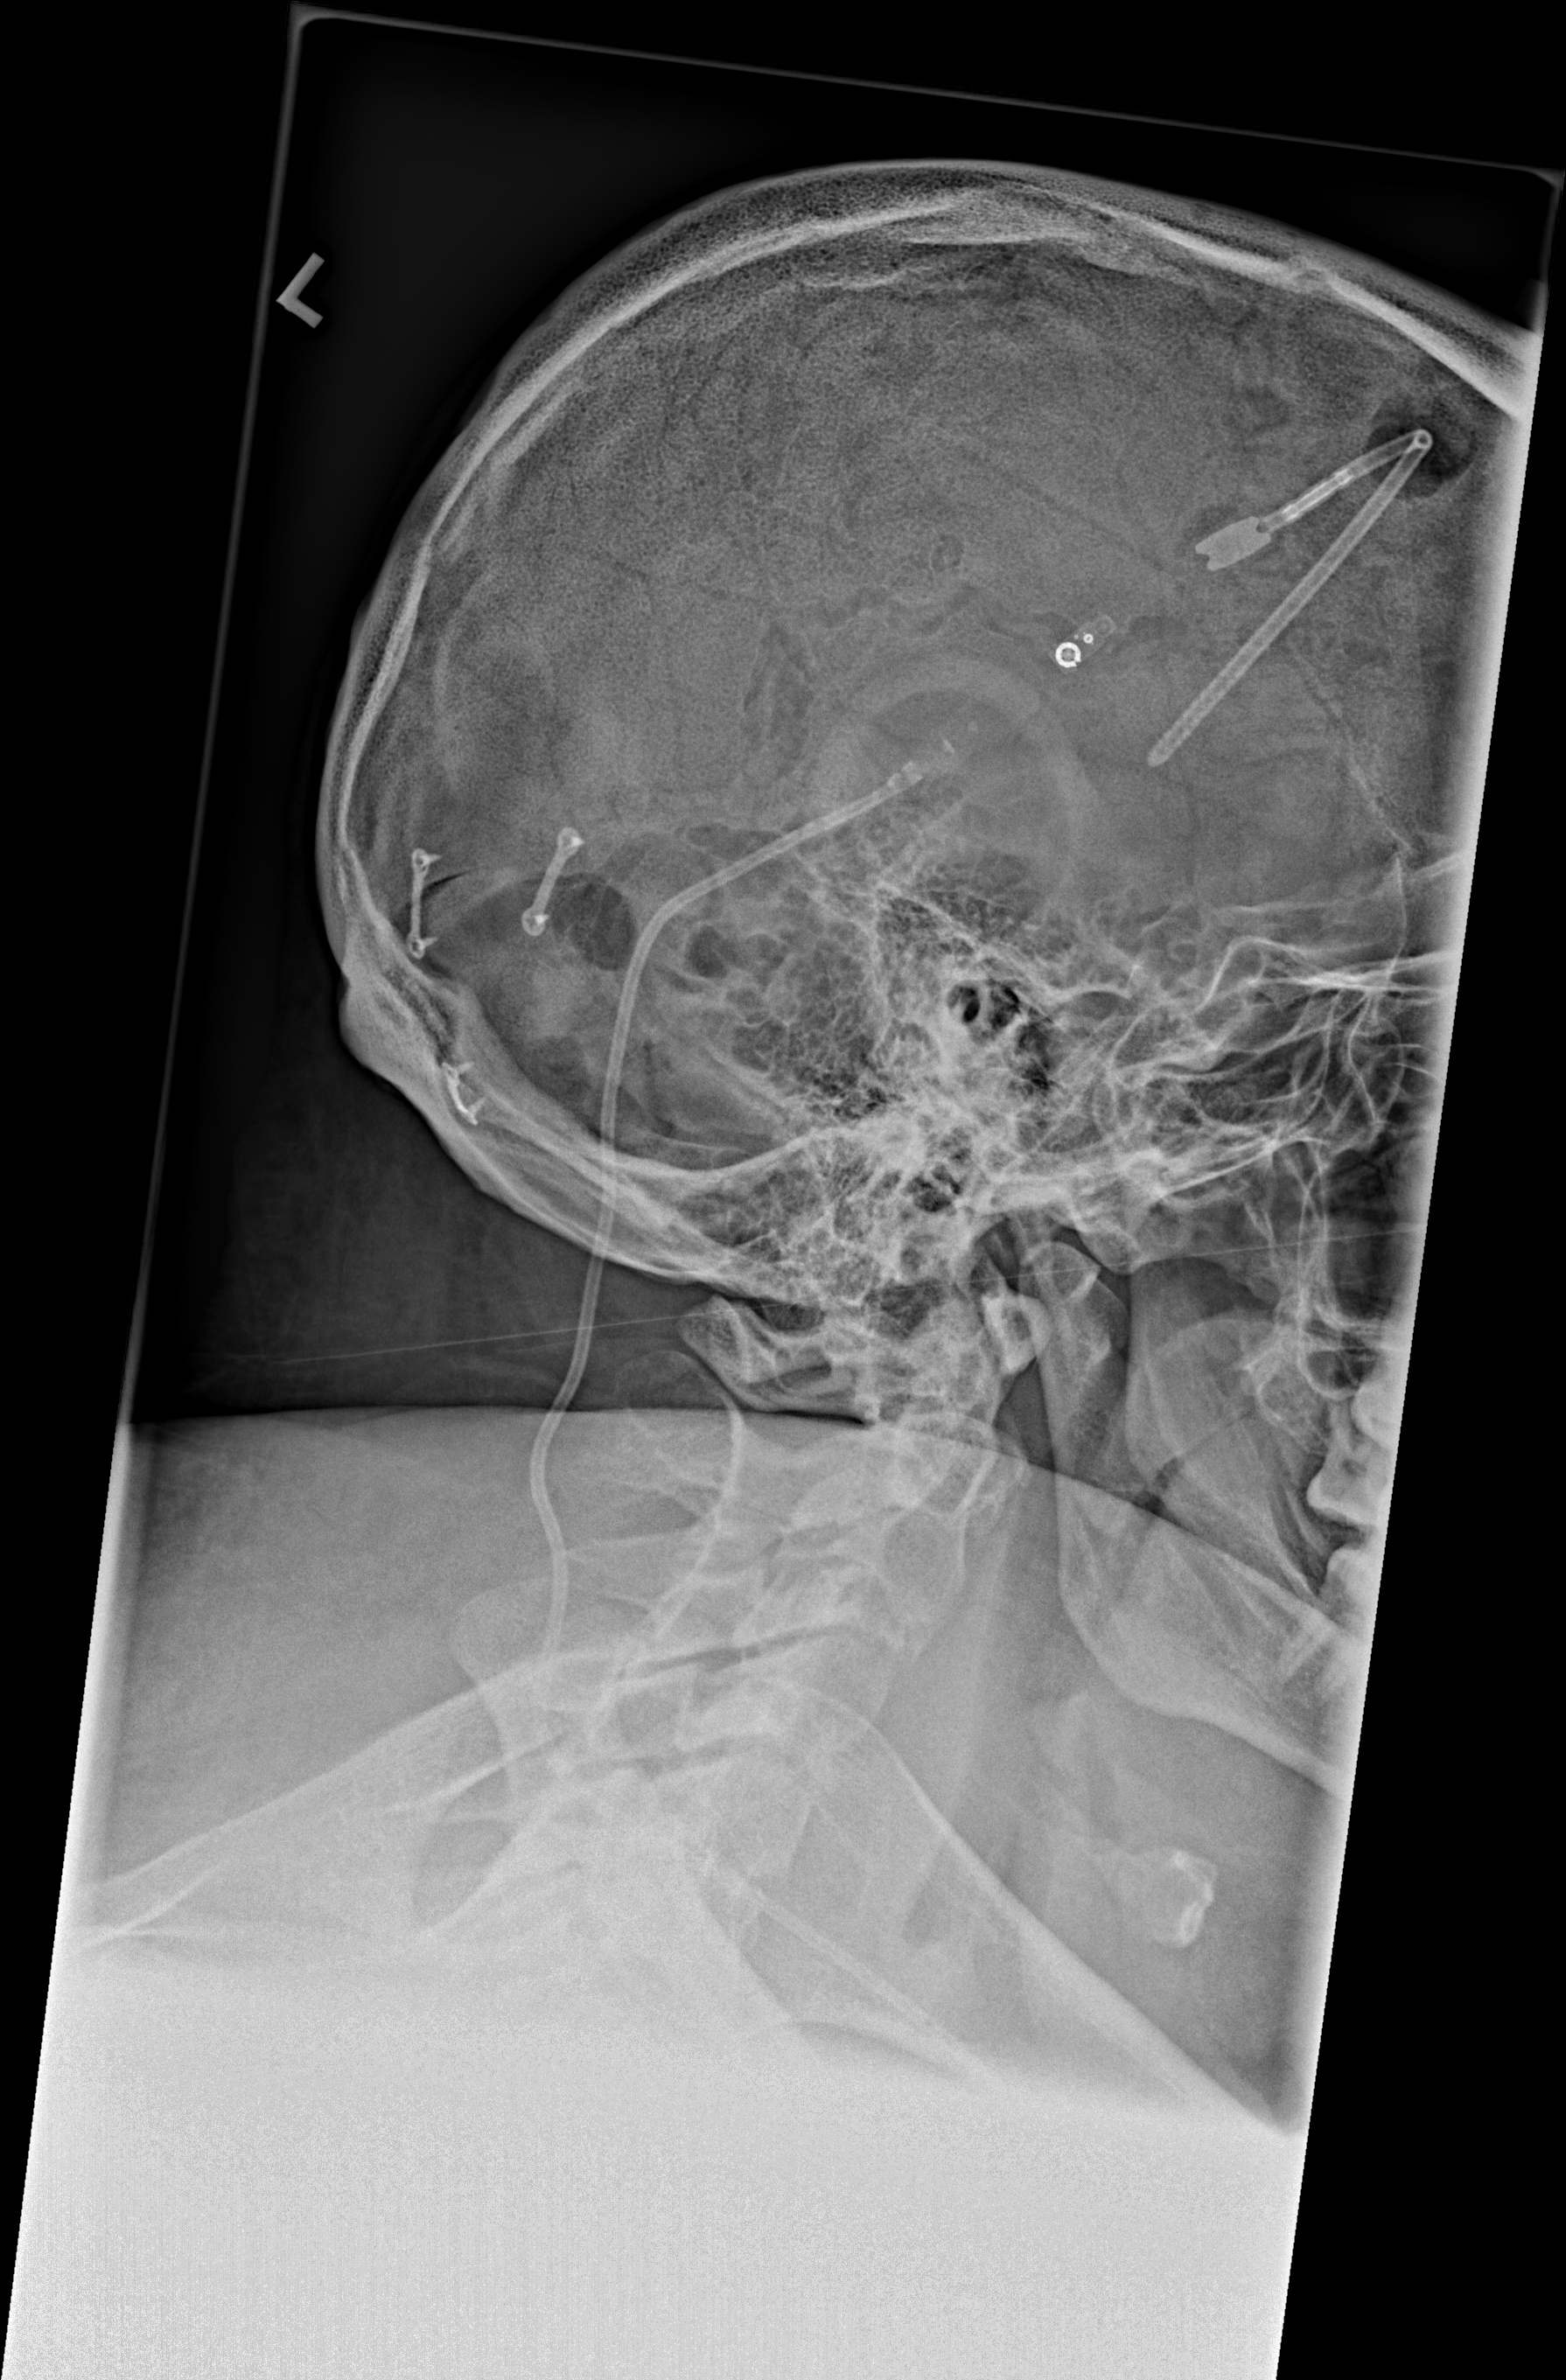Codman Hakim: (1042, 606, 1119, 688)
